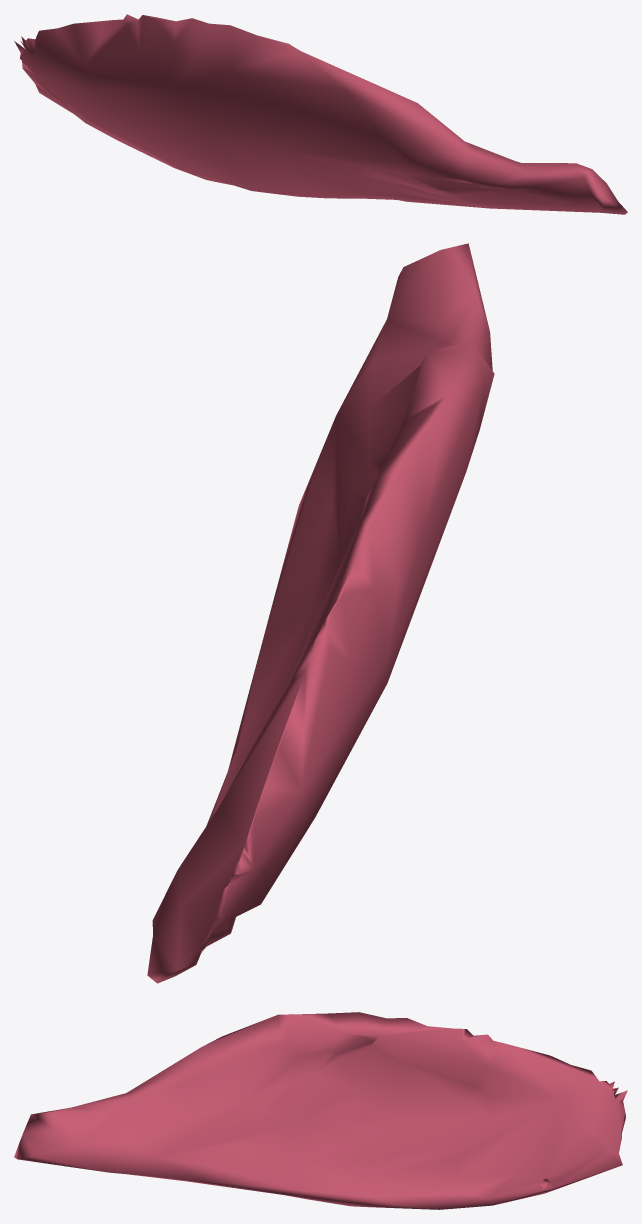
3 renders of one model, top to bottom at view 1: azimuth 30°, elevation 25°; view 2: azimuth 150°, elevation 25°; view 3: azimuth 270°, elevation 25°, orthographic. The views are drawn at different scales.
Visible parts, largest first — view 1: 左侧小指对掌肌; view 2: 左侧小指对掌肌; view 3: 左侧小指对掌肌.
Part boxes in pixels (box(x1,y1,x2,y2)): 左侧小指对掌肌: box(14, 14, 627, 214); 左侧小指对掌肌: box(147, 243, 494, 983); 左侧小指对掌肌: box(14, 1012, 627, 1209).
Size of the model in its own units: 0.0272 by 0.0226 by 0.0702.
